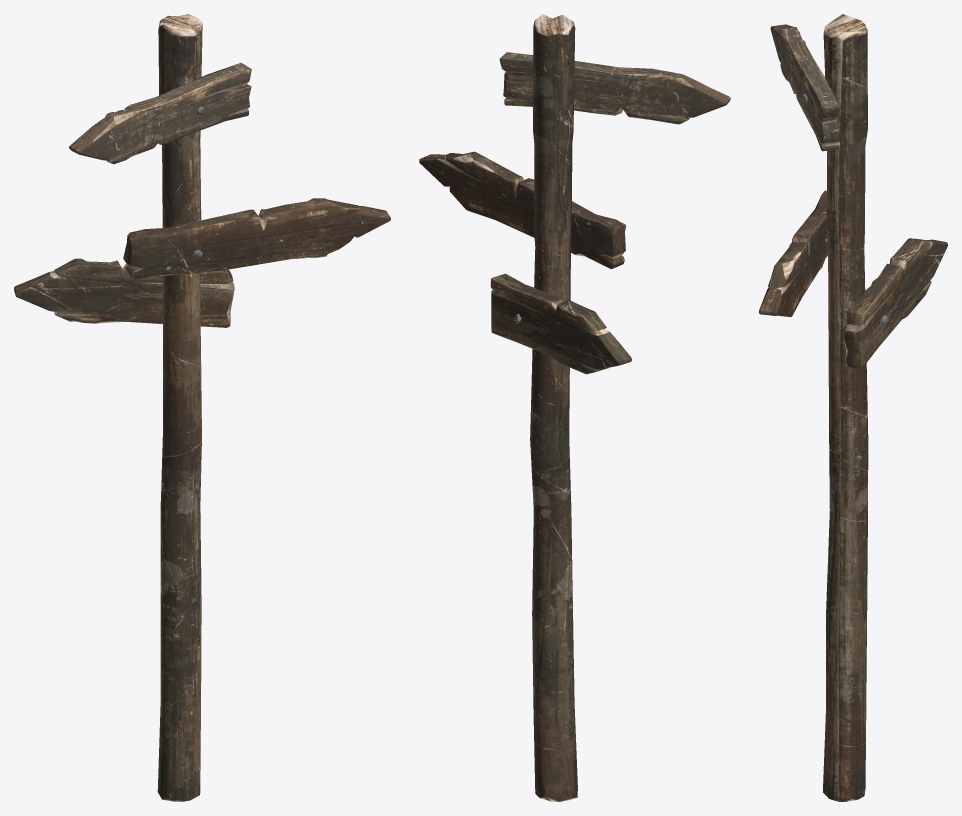
3 views of the same model, side by side, from view 1: azimuth 30°, elevation 25°; view 2: azimuth 150°, elevation 25°; view 3: azimuth 270°, elevation 25° (orthographic).
Visible parts, largest first — view 1: SM_Wooden_Sign_02v2_LOD0; view 2: SM_Wooden_Sign_02v2_LOD0; view 3: SM_Wooden_Sign_02v2_LOD0.
Boxes of the visible parts, box(x1,y1,x2,y2) form: SM_Wooden_Sign_02v2_LOD0: box(14, 14, 390, 801); SM_Wooden_Sign_02v2_LOD0: box(419, 14, 730, 801); SM_Wooden_Sign_02v2_LOD0: box(759, 14, 947, 801).
Bounding box in the file's own units: 1.12 × 2.65 × 0.5881.
Materials: 1 (1 with a texture image).
